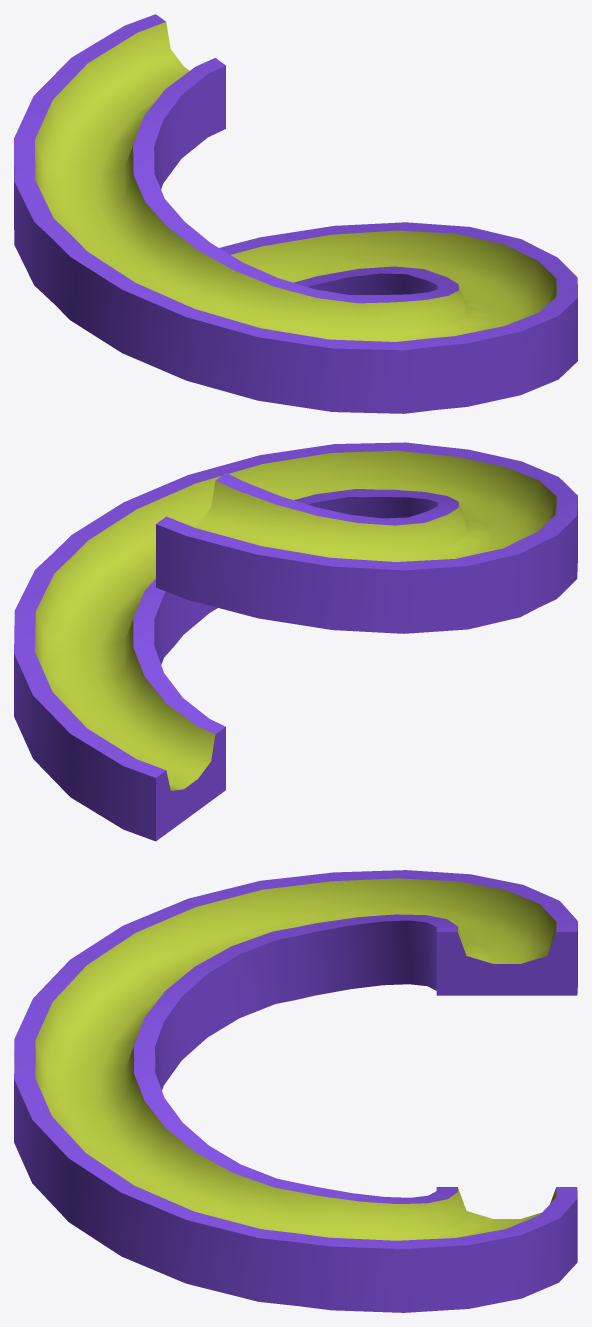
The model's file is helix_right-col.dae.
3 views of the same model, one above another, from view 1: azimuth 30°, elevation 25°; view 2: azimuth 150°, elevation 25°; view 3: azimuth 270°, elevation 25° (orthographic).
Visible parts, largest first — view 1: helix_right-col; view 2: helix_right-col; view 3: helix_right-col.
Boxes of the visible parts, box(x1,y1,x2,y2) form: helix_right-col: box(14, 14, 577, 413); helix_right-col: box(14, 442, 577, 841); helix_right-col: box(14, 870, 577, 1312).
Bounding box in the file's own units: 4.01 × 4.01 × 2.5.
